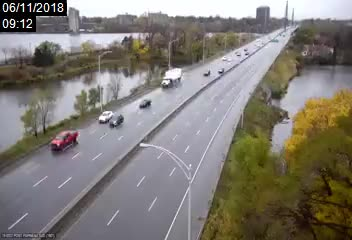personal_car: (52, 130, 78, 150), (108, 113, 124, 127), (98, 110, 113, 123), (138, 98, 153, 108), (202, 69, 210, 77), (216, 67, 224, 74)
truck: (162, 68, 181, 90)
